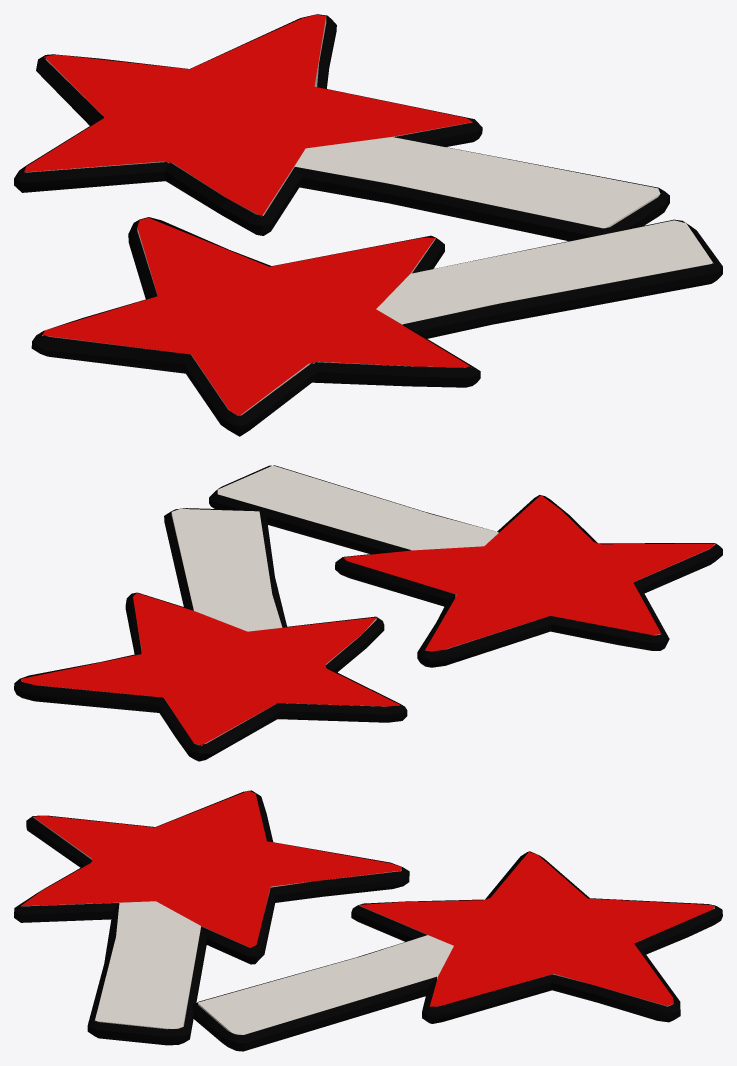
Rendered from Presilhas.fbx.
The picture shows the model from 3 angles, top to bottom: view 1: azimuth 30°, elevation 25°; view 2: azimuth 150°, elevation 25°; view 3: azimuth 270°, elevation 25°; orthographic projection. The views are drawn at different scales.
Parts seen in each view (by area): view 1: Presilhas; view 2: Presilhas; view 3: Presilhas.
Part boxes in pixels (x1,y1,x2,y2): Presilhas: (14, 14, 722, 436); Presilhas: (14, 465, 722, 761); Presilhas: (14, 790, 722, 1051).
Size of the model in its own units: 153 by 4.72 by 183.
